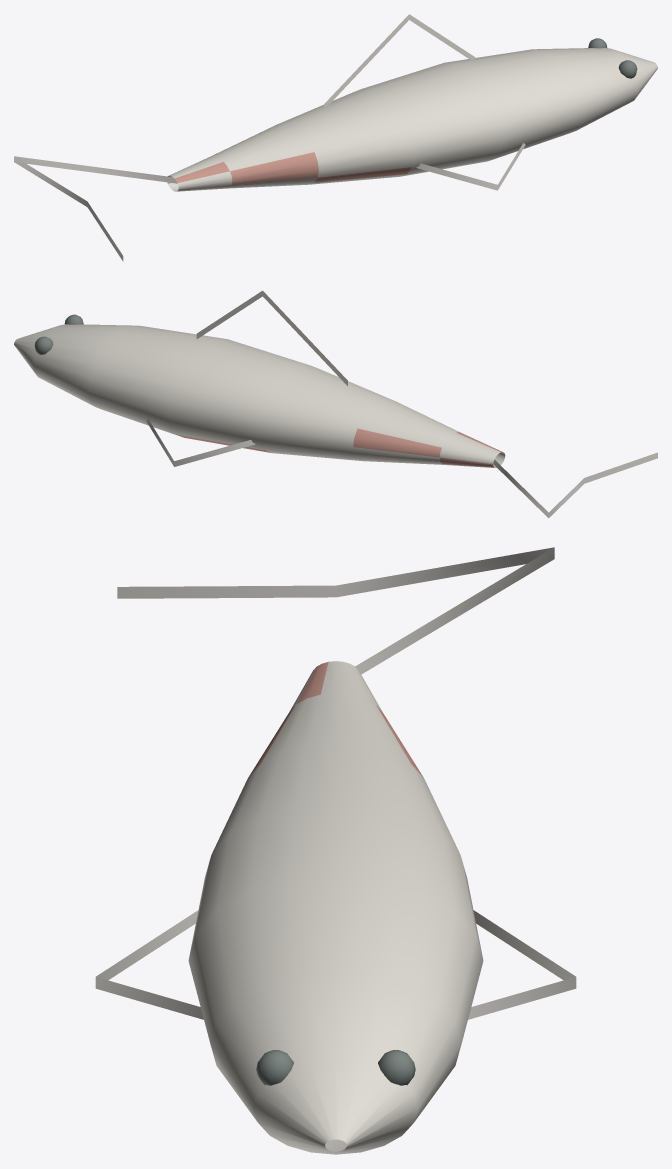
The model's file is koi.glb.
The picture shows the model from 3 angles, top to bottom: view 1: azimuth 30°, elevation 25°; view 2: azimuth 150°, elevation 25°; view 3: azimuth 270°, elevation 25°; orthographic projection. The views are drawn at different scales.
Visible parts, largest first — view 1: koiBody, koiTail, koiDorsal, koiPectoralL; view 2: koiBody, koiTail, koiDorsal, koiPectoralR; view 3: koiBody, koiTail, koiPectoralL, koiPectoralR, koiEyeL, koiEyeR.
Part boxes in pixels (box(x1,y1,x2,y2)): koiBody: box(167, 48, 657, 191); koiTail: box(14, 156, 177, 261); koiDorsal: box(324, 14, 475, 109); koiPectoralL: box(416, 143, 525, 190); koiBody: box(14, 324, 505, 467); koiTail: box(493, 452, 657, 518); koiDorsal: box(196, 290, 347, 385); koiPectoralR: box(146, 419, 255, 466); koiBody: box(188, 661, 483, 1154); koiTail: box(117, 547, 554, 674); koiPectoralL: box(95, 910, 203, 1019); koiPectoralR: box(468, 910, 576, 1019); koiEyeL: box(256, 1050, 293, 1085); koiEyeR: box(378, 1050, 415, 1085).
Bounding box in the file's own units: 1.24 × 0.3097 × 0.44.
